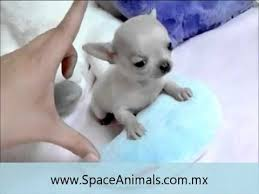chihuahua: (69, 7, 206, 148)
